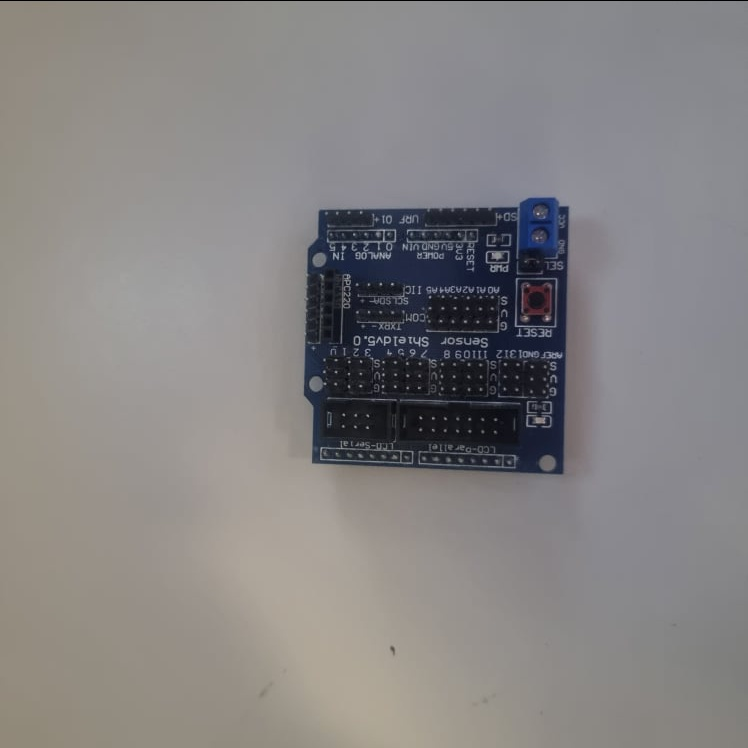5V EXPANSION: (305, 194, 572, 469)
